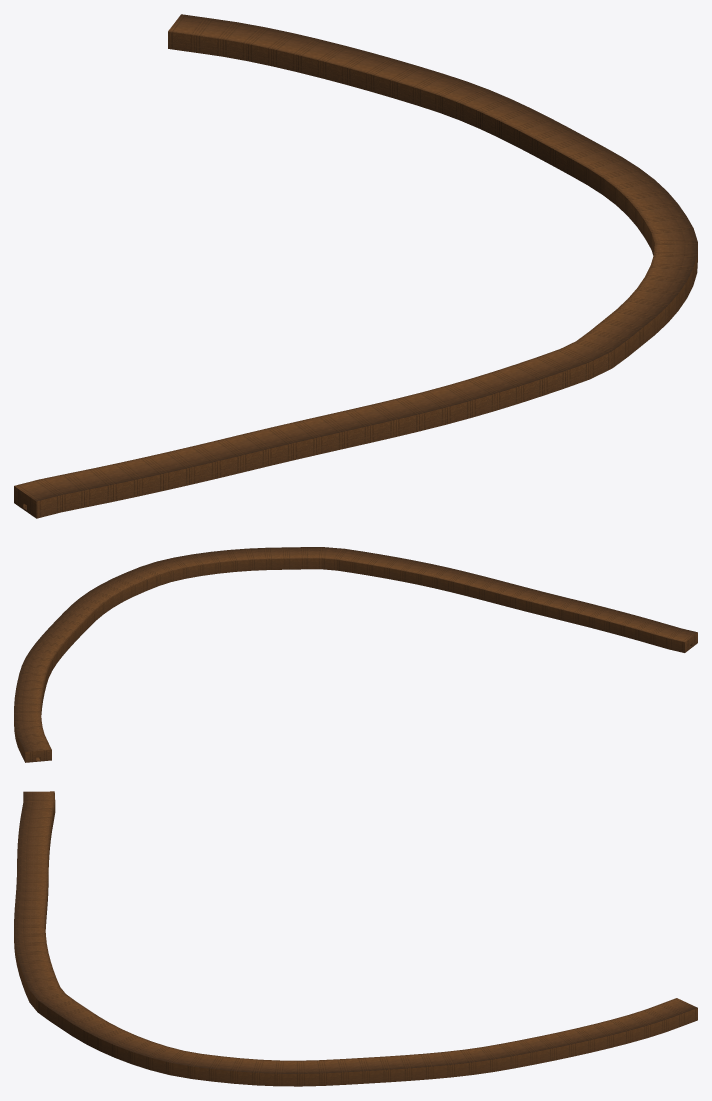
Rendered from boulderTunnel_Backup.fbx.
3 renders of one model, top to bottom at view 1: azimuth 30°, elevation 25°; view 2: azimuth 150°, elevation 25°; view 3: azimuth 270°, elevation 25°, orthographic. The views are drawn at different scales.
Visible parts, largest first — view 1: boulderTunnelCube; view 2: boulderTunnelCube; view 3: boulderTunnelCube.
Boxes of the visible parts, box(x1,y1,x2,y2) form: boulderTunnelCube: box(14, 14, 697, 518); boulderTunnelCube: box(14, 547, 697, 762); boulderTunnelCube: box(14, 791, 697, 1086).
Bounding box in the file's own units: 80964 × 1677 × 82835.
